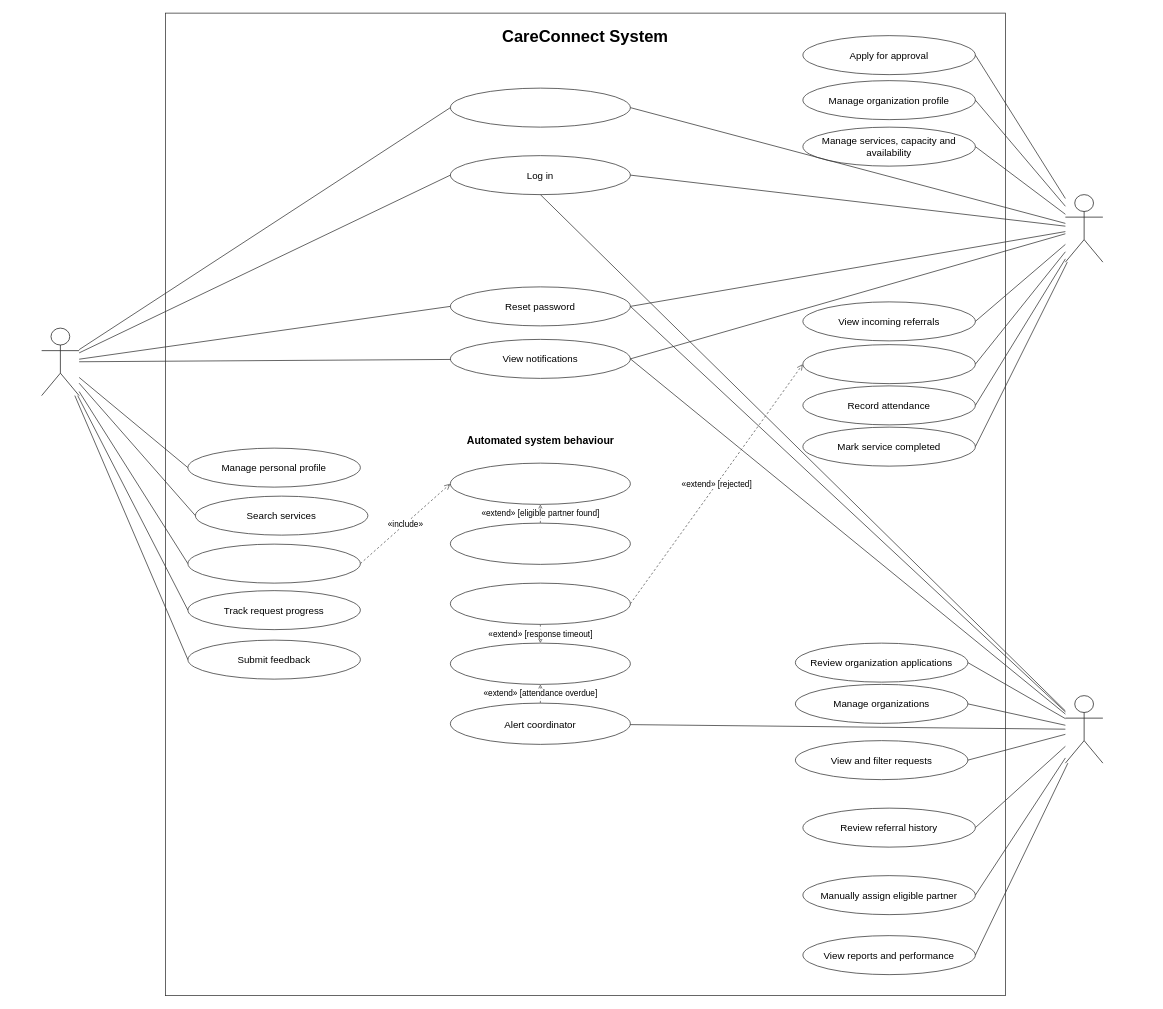
The diagram is 1163 pixels wide and 1009 high, and some of its shapes have lost their labels. Each missing label, with the centre of its shape:
Accept or reject referral: pixel 888 364
Community Member: pixel 60 361
Coordinator: pixel 1084 729
Create referral and reserve capacity: pixel 540 543
Match eligible organizations: pixel 540 483
Monitor deadlines: pixel 540 663
Organization Representative: pixel 1084 228
Register and verify email: pixel 540 107
Submit support request: pixel 273 563
Try backup organization: pixel 540 603
